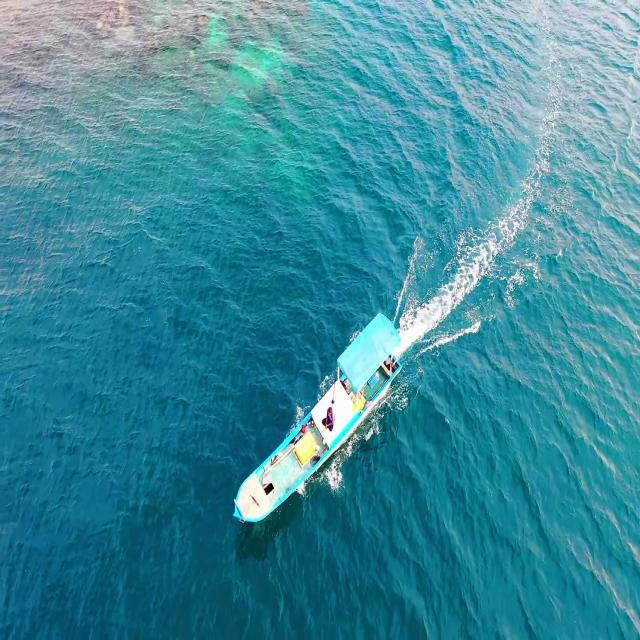ship: (230, 311, 402, 529)
